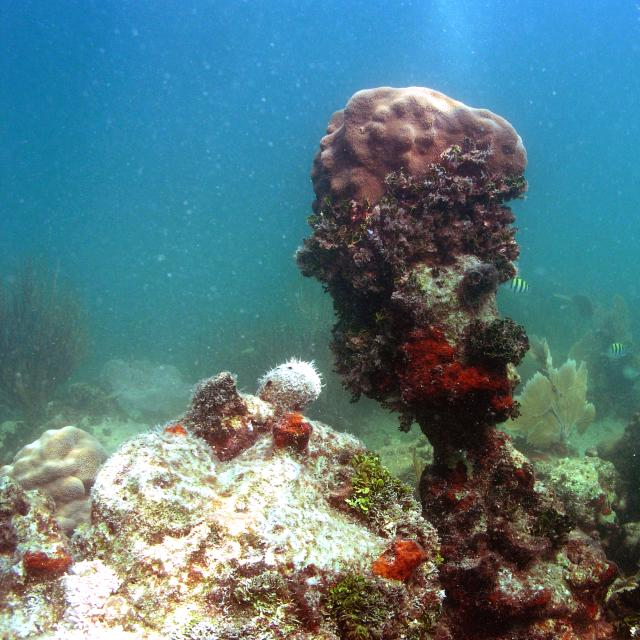Coral: (310, 86, 527, 213)
